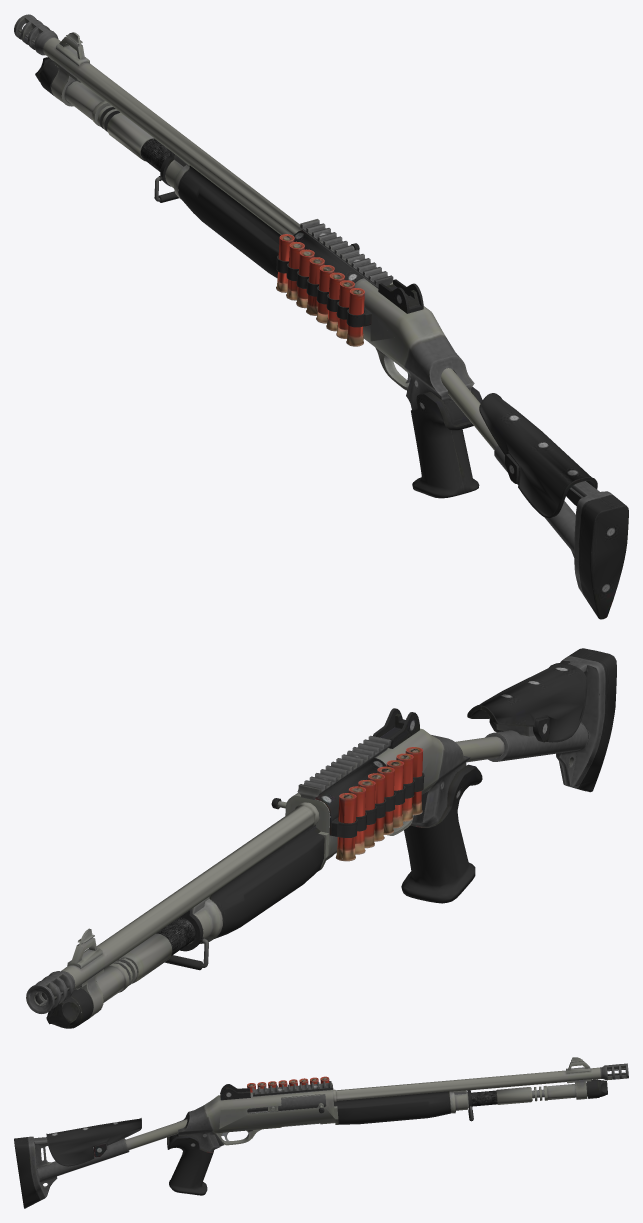
The model's file is benelli.glb.
3 views of the same model, one above another, from view 1: azimuth 30°, elevation 25°; view 2: azimuth 150°, elevation 25°; view 3: azimuth 270°, elevation 25° (orthographic). The views are drawn at different scales.
Parts seen in each view (by area): view 1: body; view 2: body; view 3: body.
Part boxes in pixels (left/top/right/bottom): body: left=14, top=14, right=628, bottom=619; body: left=26, top=648, right=616, bottom=1028; body: left=14, top=1057, right=628, bottom=1208.
Bounding box in the file's own units: 0.0763 × 0.2198 × 0.8849.
Materials: 2 (2 with a texture image).
